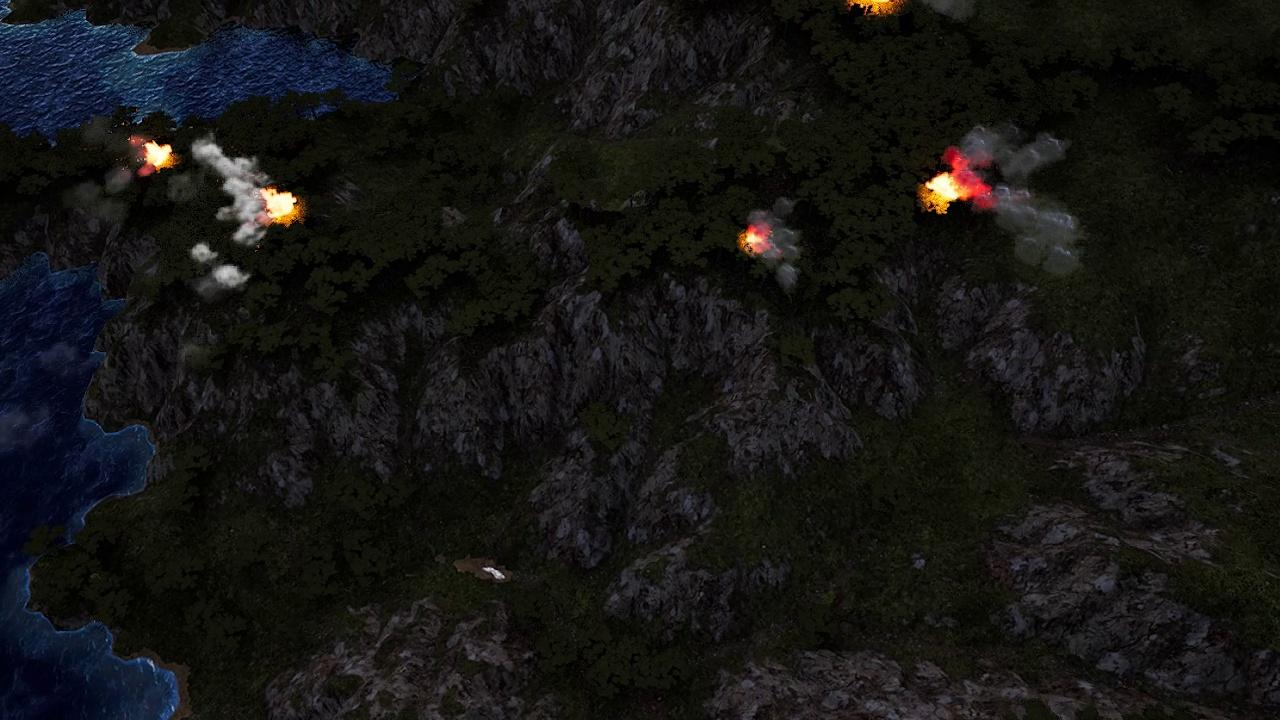fire: (923, 164, 990, 211), (261, 188, 302, 225), (133, 138, 174, 174), (735, 226, 765, 254), (846, 0, 905, 13)
smoke: (958, 122, 1085, 278), (184, 131, 263, 301), (72, 123, 161, 230), (745, 200, 806, 293)
